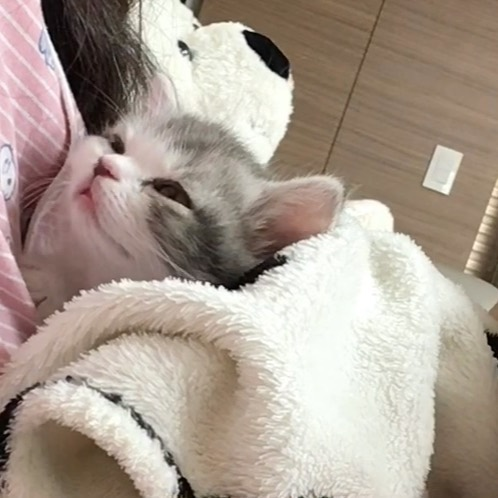cat: (69, 74, 343, 299)
